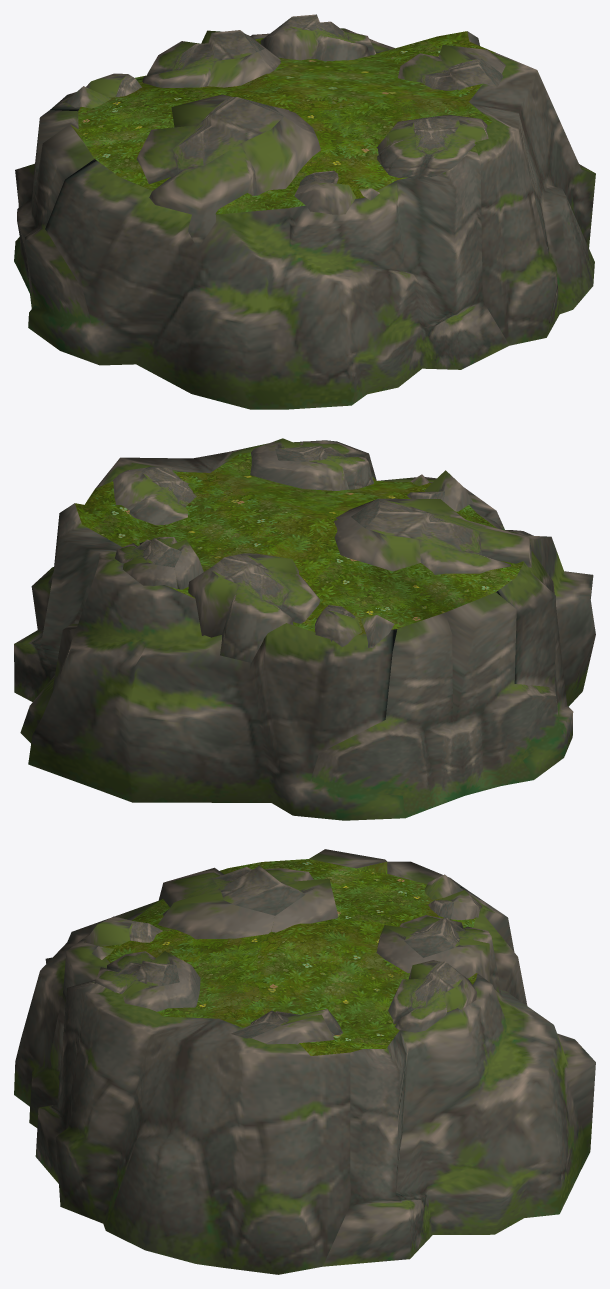
File: shrine_wj004_03.FBX
3 views of the same model, one above another, from view 1: azimuth 30°, elevation 25°; view 2: azimuth 150°, elevation 25°; view 3: azimuth 270°, elevation 25° (orthographic). The views are drawn at different scales.
Parts seen in each view (by area): view 1: shrine_wj004_03; view 2: shrine_wj004_03; view 3: shrine_wj004_03.
Boxes of the visible parts, box(x1,y1,x2,y2) form: shrine_wj004_03: box(14, 14, 595, 409); shrine_wj004_03: box(14, 438, 595, 820); shrine_wj004_03: box(14, 849, 595, 1274).
Bounding box in the file's own units: 504 × 194 × 463.
2 materials, 2 textured.
